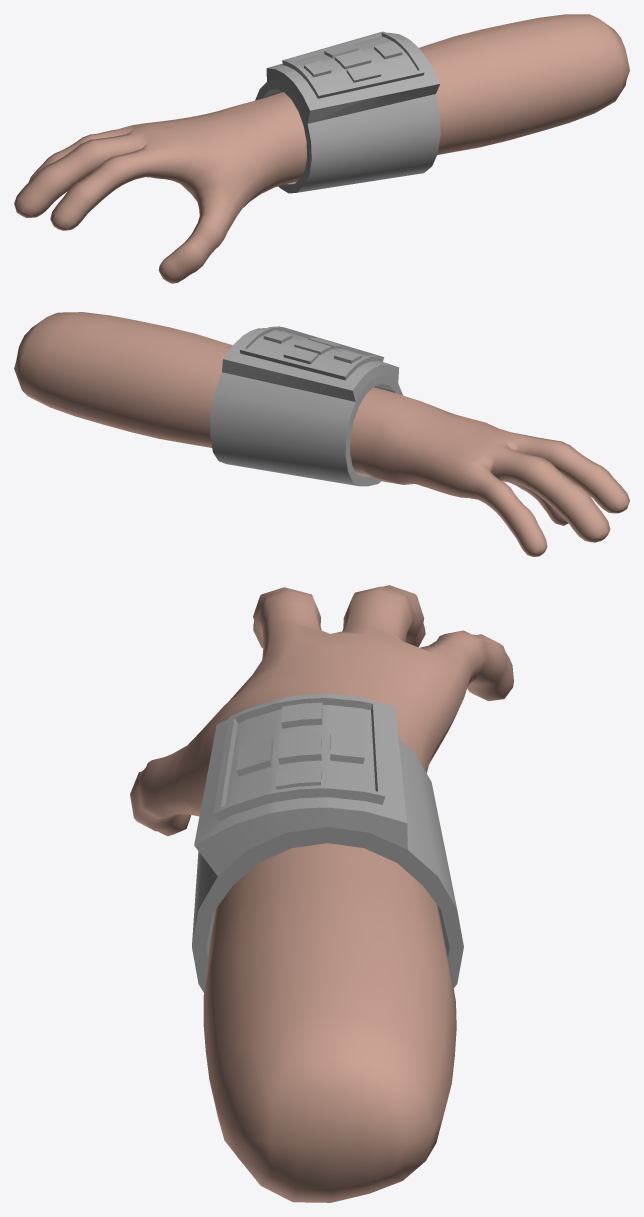
File: PACKBOY.fbx
The picture shows the model from 3 angles, top to bottom: view 1: azimuth 30°, elevation 25°; view 2: azimuth 150°, elevation 25°; view 3: azimuth 270°, elevation 25°; orthographic projection. The views are drawn at different scales.
Parts seen in each view (by area): view 1: AnatomyHandAlien:alienhand, pCylinder2; view 2: AnatomyHandAlien:alienhand, pCylinder2; view 3: AnatomyHandAlien:alienhand, pCylinder2.
Part boxes in pixels (box(x1,y1,x2,y2)): AnatomyHandAlien:alienhand: box(14, 14, 629, 283); pCylinder2: box(255, 31, 440, 193); AnatomyHandAlien:alienhand: box(14, 312, 629, 556); pCylinder2: box(210, 326, 402, 486); AnatomyHandAlien:alienhand: box(130, 585, 513, 1202); pCylinder2: box(192, 693, 463, 992).
Size of the model in its own units: 61.65 by 15.23 by 17.51.
